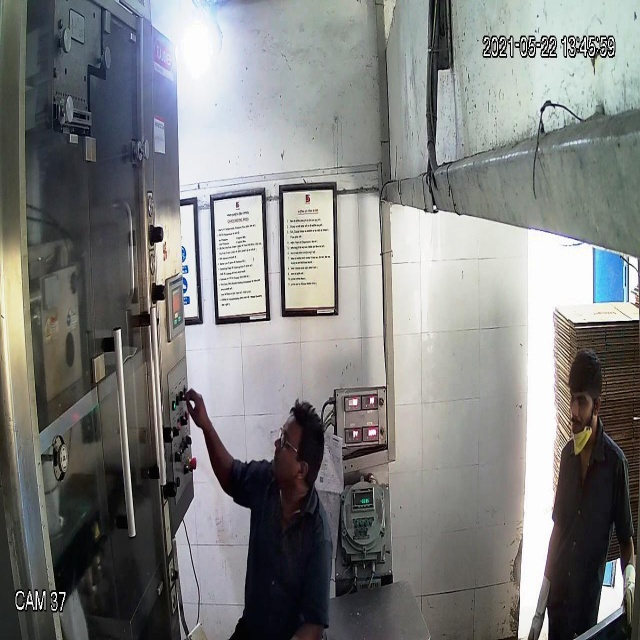Gafas: (274, 425, 311, 466)
Sin_gafas: (564, 389, 599, 420)
